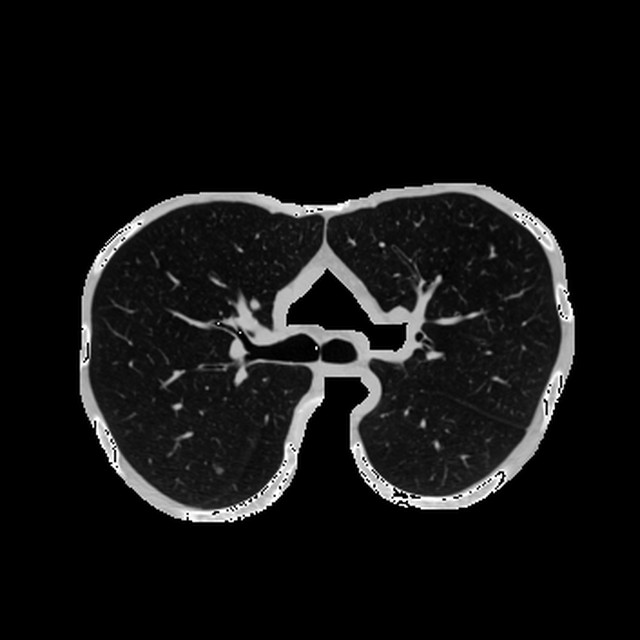PN: (214, 466, 221, 473)
